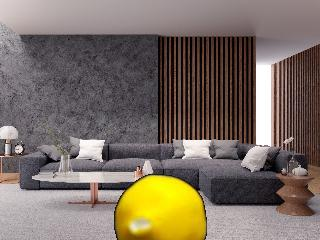lemon: (114, 175, 204, 240)
